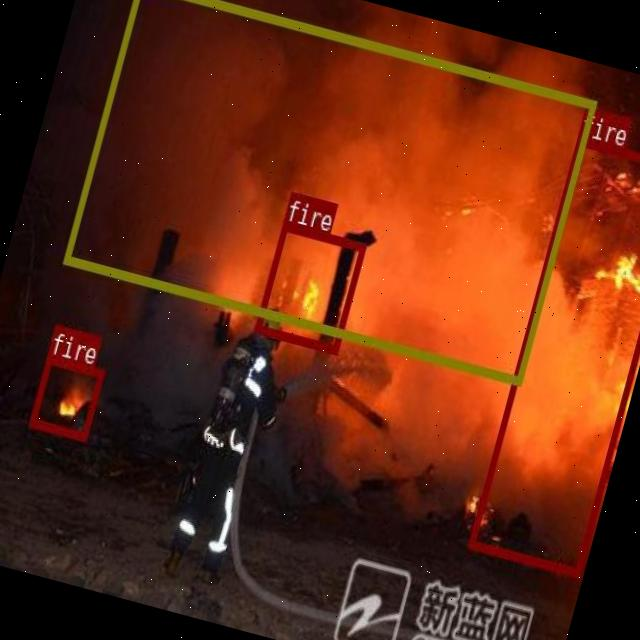fire: (467, 136, 640, 575), (254, 221, 364, 351), (27, 352, 103, 440)
smoke: (62, 0, 595, 383)
